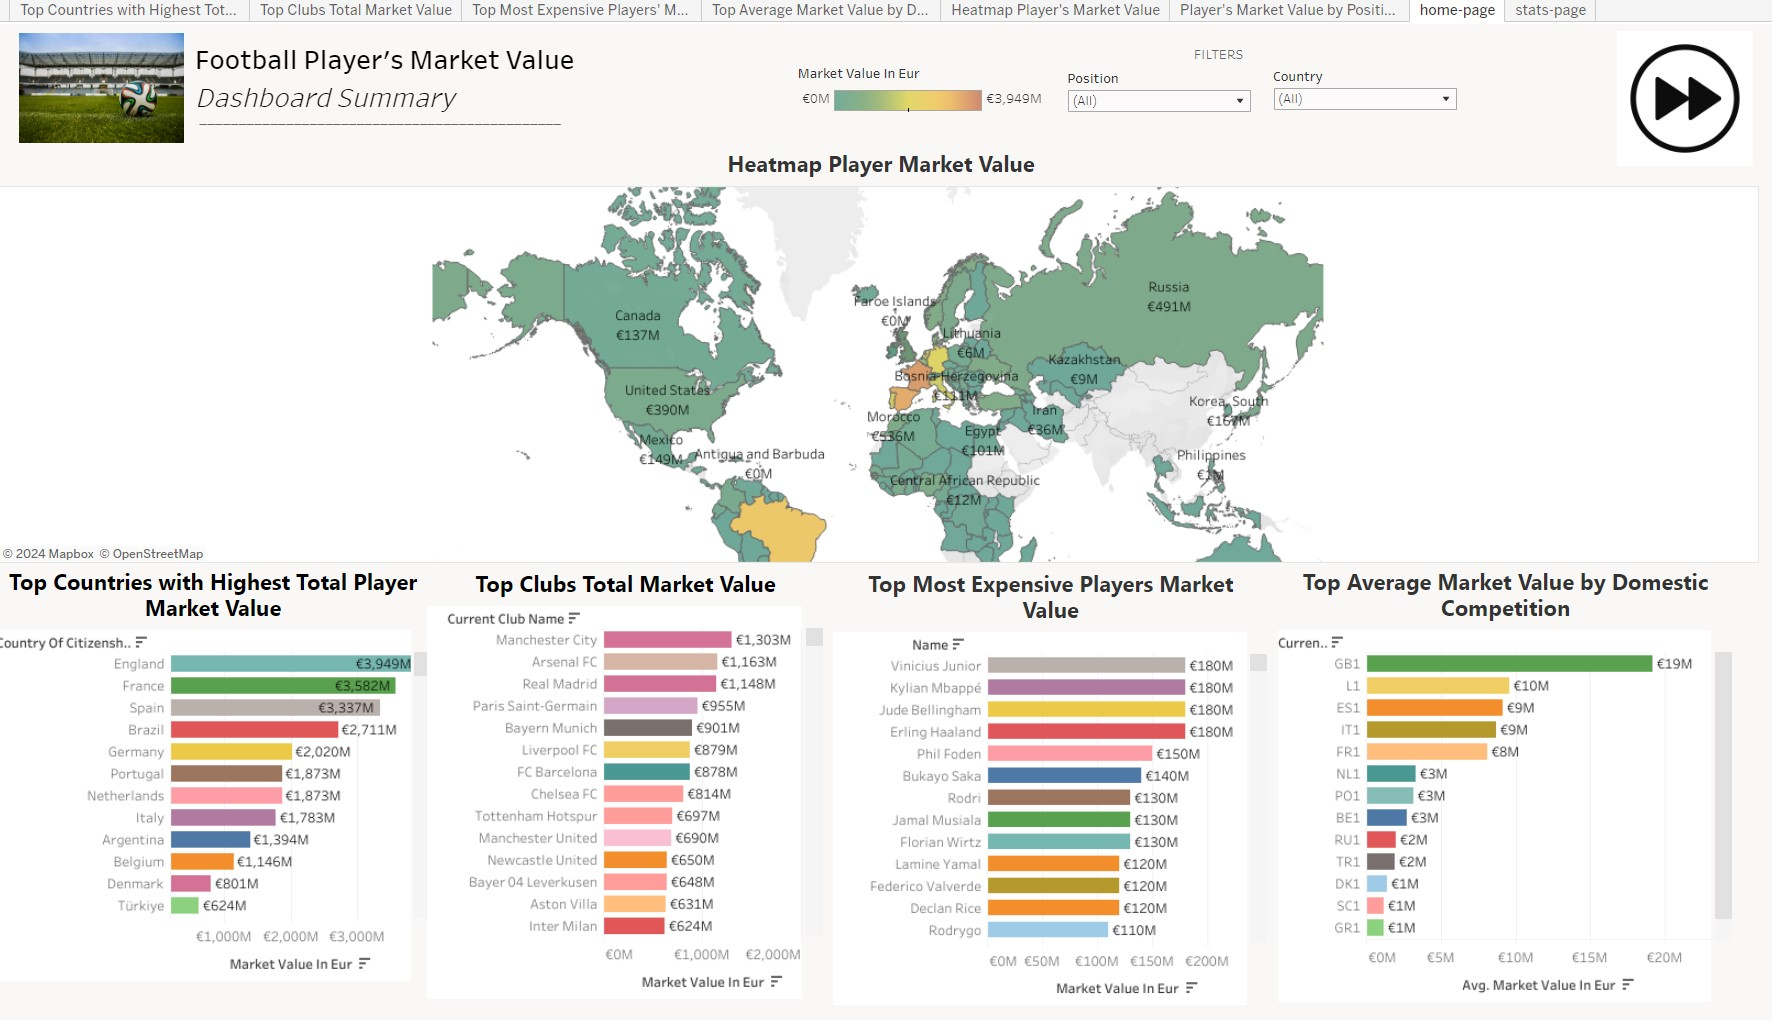

What the dashboard file says about the page in this screenshot:
{"tool":"tableau","page":{"name":"home-page","canvas":[1600,900],"ordinal":0},"visuals":[{"type":"text","box":[177,6,570,85]},{"type":"image","param":"Image/pexels-pixabay-46798.jpg","box":[17,8,223,100]},{"type":"text","box":[1085,13,100,30]},{"type":"text","box":[181,32,469,109]},{"type":"legend","title":"Heatmap Player's Market Value","param":"[federated.08mmn3k1tc8jry18vo4eb06p8kh7].[sum:market_value_in_eur:qk]","box":[725,36,227,67]},{"type":"filter","title":"Top Countries with Highest Total Player Market Value","param":"[federated.08mmn3k1tc8jry18vo4eb06p8kh7].[none:Calculation_1827617069625851905:n","box":[1157,39,168,61]},{"type":"filter","title":"Top Countries with Highest Total Player Market Value","param":"[federated.08mmn3k1tc8jry18vo4eb06p8kh7].[none:position:nk]","box":[970,41,168,53]},{"type":"worksheet","title":"Top Average Market Value by Domestic Competition","mark":"Automatic","rows":["current_club_domestic_competition_id"],"cols":["market_value_in_eur"],"box":[1162,488,412,401]},{"type":"worksheet","title":"Top Clubs Total Market Value","mark":"Automatic","rows":["current_club_name"],"cols":["market_value_in_eur"],"box":[388,490,360,396]},{"type":"worksheet","title":"Top Most Expensive Players' Market Value","mark":"Automatic","rows":["name"],"cols":["market_value_in_eur"],"box":[757,490,395,402]}]}

Visuals, with their boxes on the page's 1600x900 design canvas (x1, y1, x2, y2). These are canvas units, not pixel positions in the 1772x1020 screenshot, which may show the page scaled, cropped or inside an application window:
text: [left=177, top=6, right=747, bottom=91]
image: [left=17, top=8, right=240, bottom=108]
text: [left=1085, top=13, right=1185, bottom=43]
text: [left=181, top=32, right=650, bottom=141]
"Heatmap Player's Market Value" legend: [left=725, top=36, right=952, bottom=103]
"Top Countries with Highest Total Player Market Value" filter: [left=1157, top=39, right=1325, bottom=100]
"Top Countries with Highest Total Player Market Value" filter: [left=970, top=41, right=1138, bottom=94]
"Top Average Market Value by Domestic Competition" worksheet: [left=1162, top=488, right=1574, bottom=889]
"Top Clubs Total Market Value" worksheet: [left=388, top=490, right=748, bottom=886]
"Top Most Expensive Players' Market Value" worksheet: [left=757, top=490, right=1152, bottom=892]
